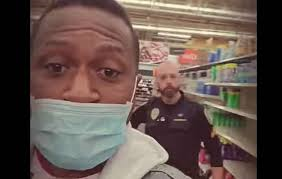mask_weared_incorrect: (32, 30, 133, 166)
without_mask: (155, 68, 183, 99)
